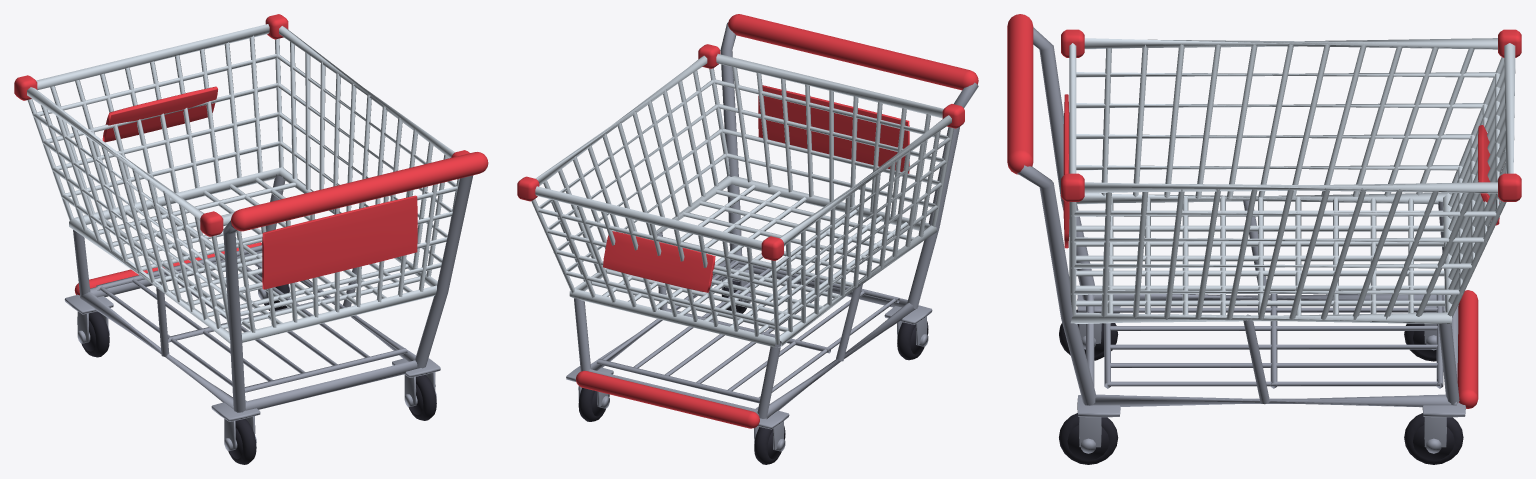
Rendered from ShoppingCart.obj.
3 views of the same model, side by side, from view 1: azimuth 30°, elevation 25°; view 2: azimuth 150°, elevation 25°; view 3: azimuth 270°, elevation 25° (orthographic). The views are drawn at different scales.
Visible parts, largest first — view 1: Basket, Frame, Chassis, Wheels; view 2: Basket, Frame, Chassis, Wheels; view 3: Basket, Chassis, Frame, Wheels.
Part boxes in pixels (x1=…): Basket: x1=27, y1=24, x2=459, y2=343; Frame: x1=14, y1=14, x2=488, y2=295; Chassis: x1=64, y1=164, x2=488, y2=450; Wheels: x1=81, y1=284, x2=436, y2=464; Basket: x1=531, y1=54, x2=953, y2=347; Frame: x1=517, y1=14, x2=978, y2=428; Chassis: x1=566, y1=22, x2=978, y2=451; Wheels: x1=578, y1=280, x2=928, y2=464; Basket: x1=1069, y1=38, x2=1515, y2=324; Chassis: x1=1017, y1=27, x2=1465, y2=453; Frame: x1=1007, y1=14, x2=1521, y2=408; Wheels: x1=1059, y1=309, x2=1463, y2=464.
Bounding box in the file's own units: 4.17 × 4.17 × 5.89.
